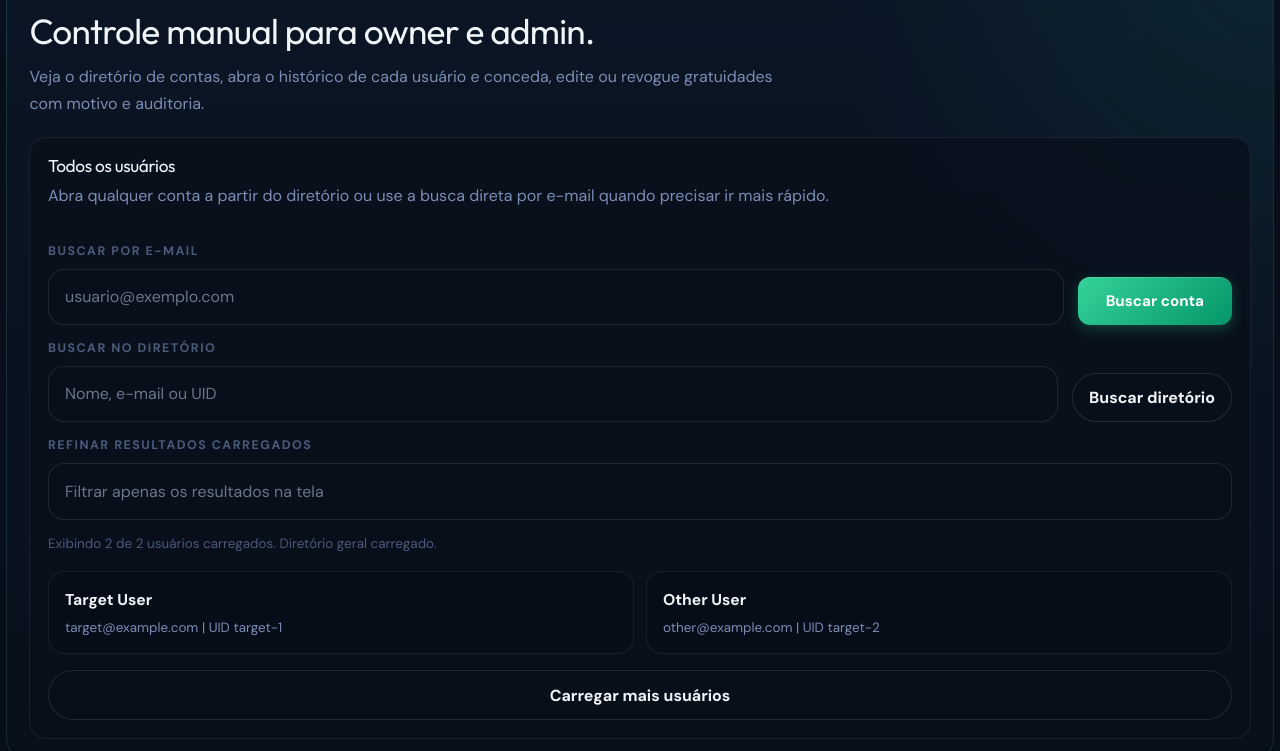
it: BillingManualGrantsConsole › applies operational presets to the grant form
This screenshot has width=1280, height=751.
Click the button "Target User target@example.com | UID target-1" at (109, 599), box [48,571,634,654]
(page scrolled)
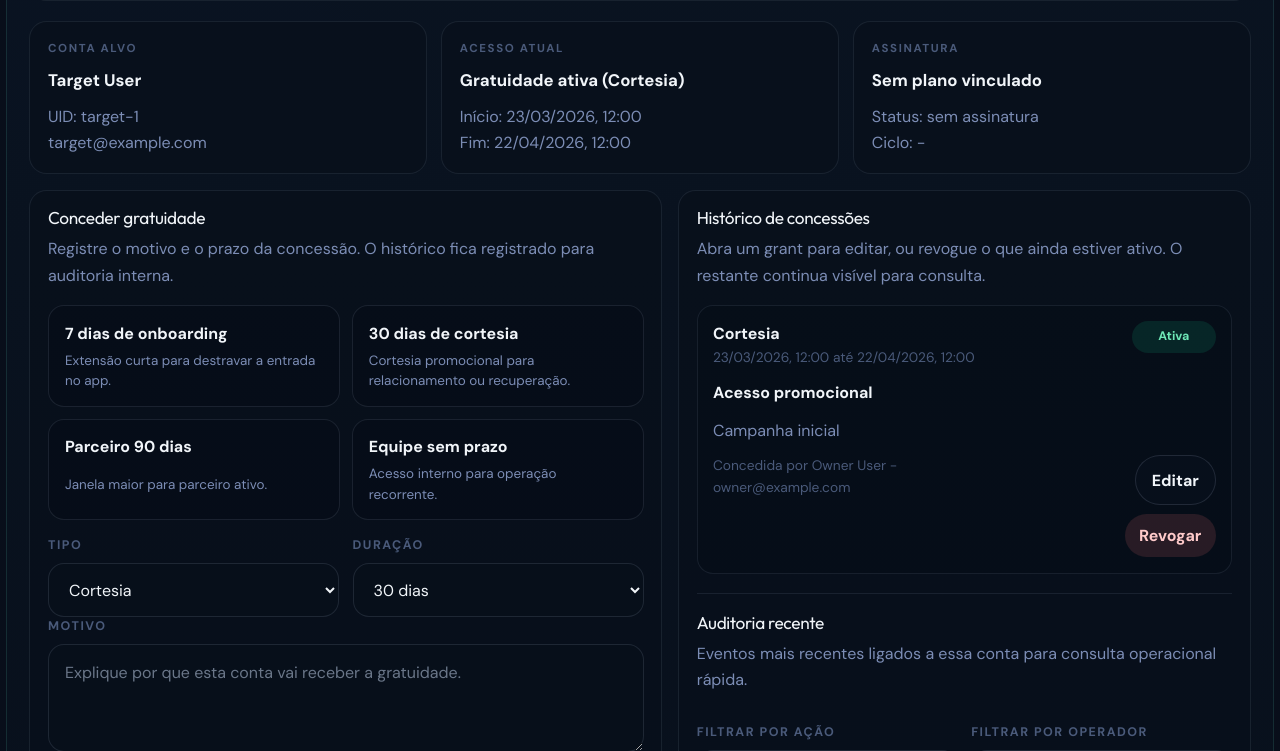
Click the button "7 dias de onboarding" at (194, 356), box [48,305,340,407]
(page scrolled)
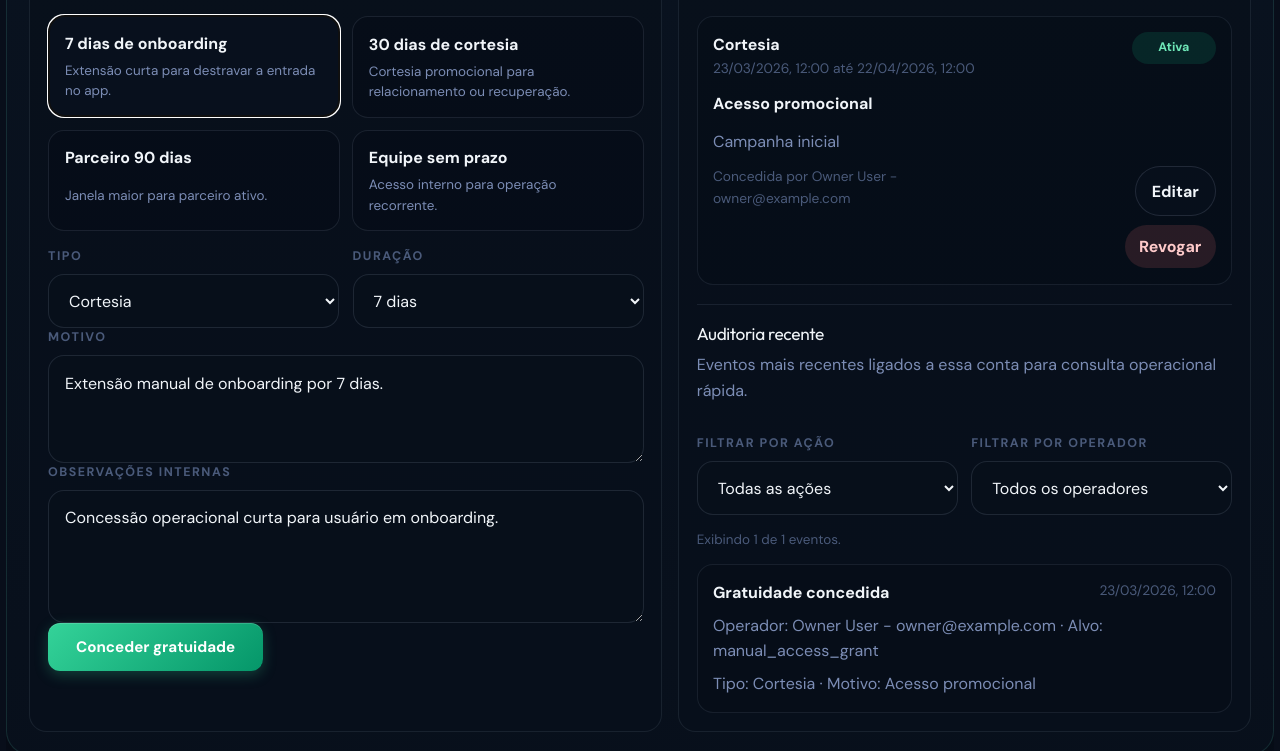
Now the dropdown labelled "Tipo" shows "Cortesia", box [48,274,339,328]
Now the dropdown labelled "Duração" shows "7 dias", box [352,274,644,328]
Now the text box labelled "Motivo" holds "Extensão manual de onboarding por 7 dias.", box [48,355,644,463]
